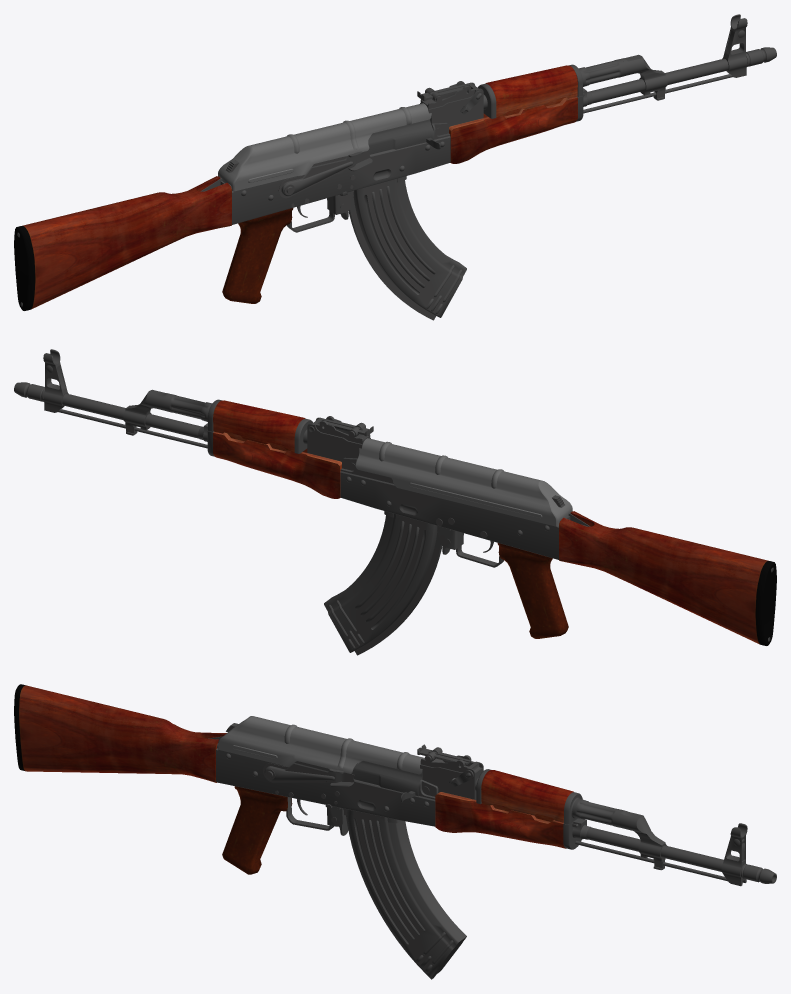
The picture shows the model from 3 angles, top to bottom: view 1: azimuth 30°, elevation 25°; view 2: azimuth 150°, elevation 25°; view 3: azimuth 330°, elevation 25°; orthographic projection.
Parts seen in each view (by area): view 1: AKM_03, AKM_61, AKM_21, AKM_25, AKM_05, AKM_04, AKM_12, AKM_08, AKM_16, AKM_28, AKM_20, AKM_58 (+4 smaller); view 2: AKM_03, AKM_61, AKM_21, AKM_25, AKM_05, AKM_04, AKM_12, AKM_08, AKM_16, AKM_58, AKM_60, AKM_10 (+2 smaller); view 3: AKM_03, AKM_61, AKM_21, AKM_25, AKM_05, AKM_04, AKM_12, AKM_08, AKM_16, AKM_20, AKM_28, AKM_60 (+5 smaller).
Boxes of the visible parts, x1,y1,x2,y2 form: AKM_03: [14, 176, 231, 310]; AKM_61: [348, 176, 466, 320]; AKM_21: [218, 103, 431, 191]; AKM_25: [232, 136, 450, 224]; AKM_05: [449, 96, 577, 163]; AKM_04: [222, 208, 293, 303]; AKM_12: [485, 65, 577, 116]; AKM_08: [576, 58, 728, 121]; AKM_16: [420, 81, 483, 126]; AKM_28: [278, 150, 372, 198]; AKM_20: [368, 119, 440, 154]; AKM_58: [722, 14, 747, 77]; AKM_03: [559, 511, 776, 645]; AKM_61: [324, 511, 442, 655]; AKM_21: [355, 438, 572, 526]; AKM_25: [340, 471, 558, 559]; AKM_05: [213, 431, 341, 498]; AKM_04: [497, 543, 568, 638]; AKM_12: [213, 400, 305, 451]; AKM_08: [62, 393, 214, 456]; AKM_16: [307, 416, 370, 461]; AKM_58: [43, 349, 68, 412]; AKM_60: [123, 389, 169, 435]; AKM_10: [164, 394, 222, 431]; AKM_03: [14, 684, 226, 782]; AKM_61: [343, 808, 466, 979]; AKM_21: [218, 716, 424, 774]; AKM_25: [216, 748, 435, 826]; AKM_05: [435, 792, 566, 848]; AKM_04: [222, 786, 292, 874]; AKM_12: [481, 770, 573, 822]; AKM_08: [563, 818, 723, 871]; AKM_16: [420, 755, 483, 799]; AKM_20: [351, 761, 422, 802]; AKM_28: [263, 761, 354, 786]; AKM_60: [618, 810, 666, 870].
Bounding box in the file's own units: 35.02 × 10.14 × 2.34.
4 materials, 1 textured.
